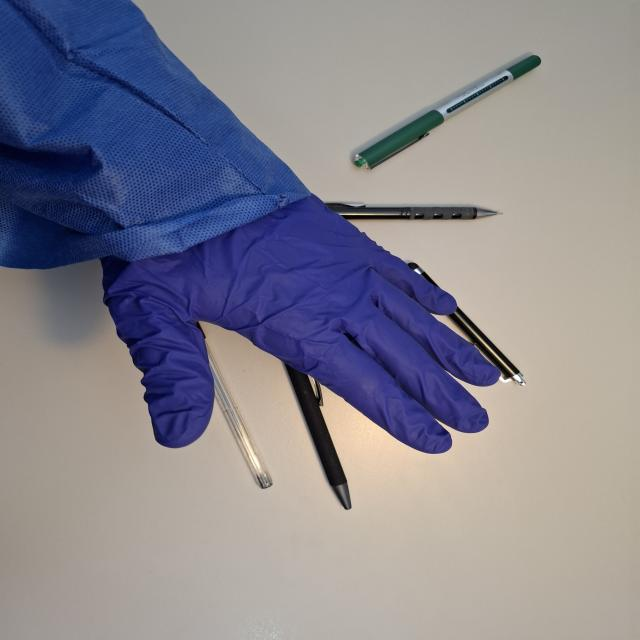glove_on: (92, 182, 504, 456)
